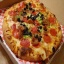olives: (15, 22, 32, 36), (24, 12, 39, 21), (33, 33, 44, 42)
pepperoni: (29, 35, 43, 49), (12, 28, 24, 39), (20, 36, 31, 48), (43, 32, 52, 43), (49, 28, 57, 37)
pizza: (3, 1, 61, 58)
